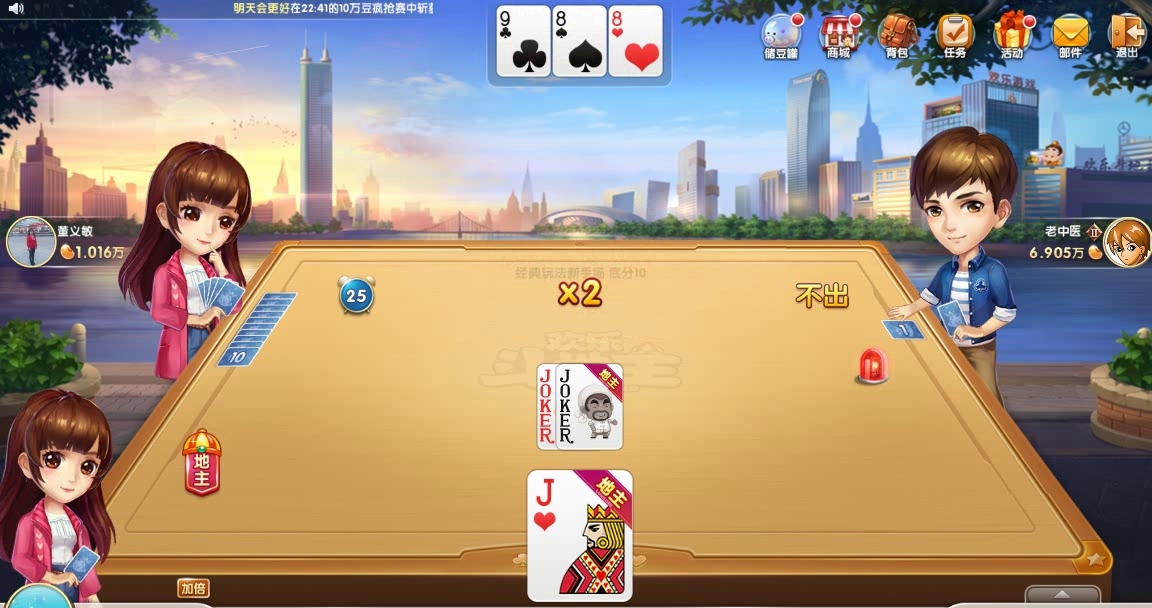11~3: (527, 470, 635, 602)
17~3: (553, 362, 624, 450)
18~4: (535, 362, 606, 450)
8~3: (609, 4, 664, 76)
8~4: (552, 4, 607, 76)
9~2: (496, 5, 551, 77)
